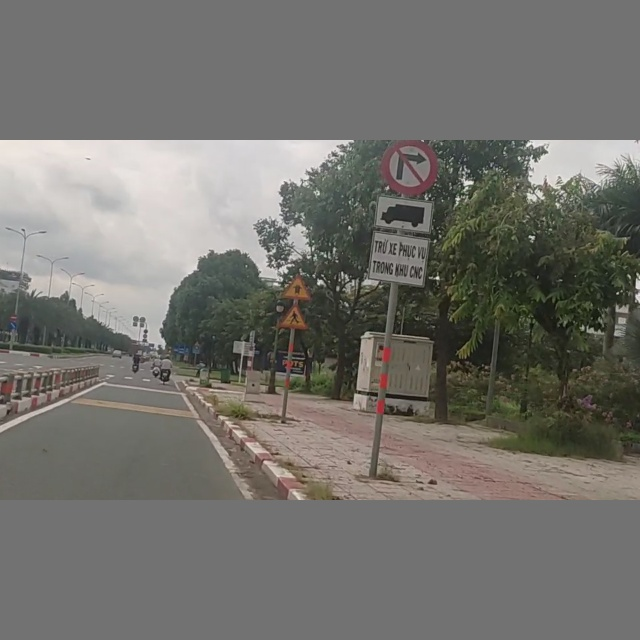P.123b: (381, 141, 439, 197)
S.505a*Xe tai: (367, 194, 432, 285)
W.207: (281, 274, 313, 301)
W.224: (277, 304, 309, 329)
